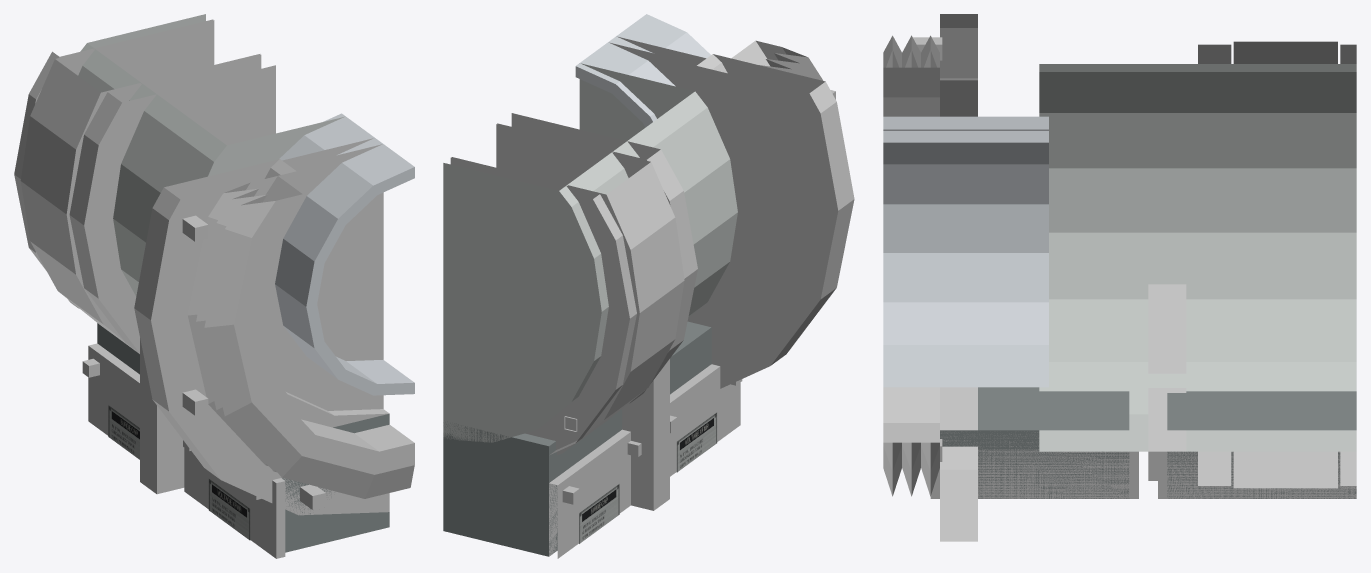
File: cell_44.obj
3 views of the same model, side by side, from view 1: azimuth 30°, elevation 25°; view 2: azimuth 150°, elevation 25°; view 3: azimuth 270°, elevation 25° (orthographic). The views are drawn at different scales.
Size of the model in its own units: 0.66 by 1 by 1.
